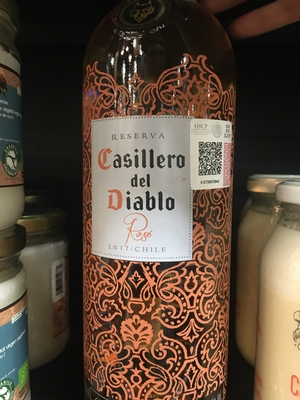casillero del diablo rose: (70, 11, 264, 400)
